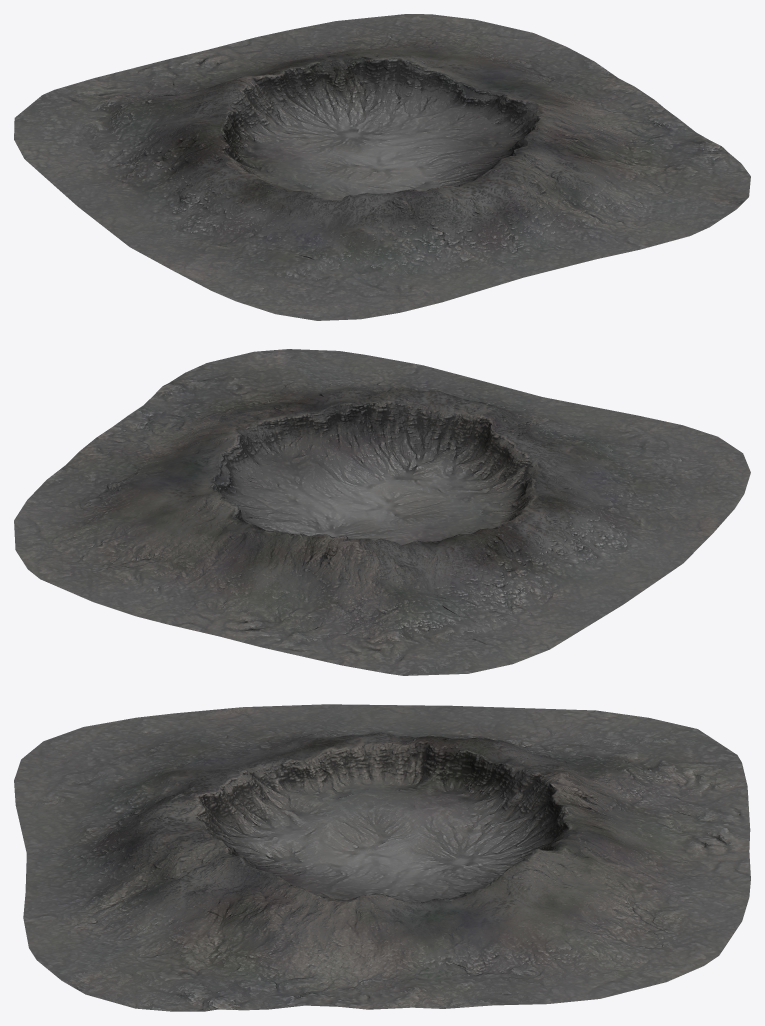
The model's file is Crater_hero_4K_GREY.fbx.
3 views of the same model, one above another, from view 1: azimuth 30°, elevation 25°; view 2: azimuth 150°, elevation 25°; view 3: azimuth 270°, elevation 25° (orthographic). The views are drawn at different scales.
Visible parts, largest first — view 1: Crater_hero_4K_GREY; view 2: Crater_hero_4K_GREY; view 3: Crater_hero_4K_GREY.
Part boxes in pixels (x1,y1,x2,y2): Crater_hero_4K_GREY: (14,14,750,320); Crater_hero_4K_GREY: (14,349,750,675); Crater_hero_4K_GREY: (14,704,750,1011).
Size of the model in its own units: 192 by 14.75 by 194.
1 material, 1 textured.
